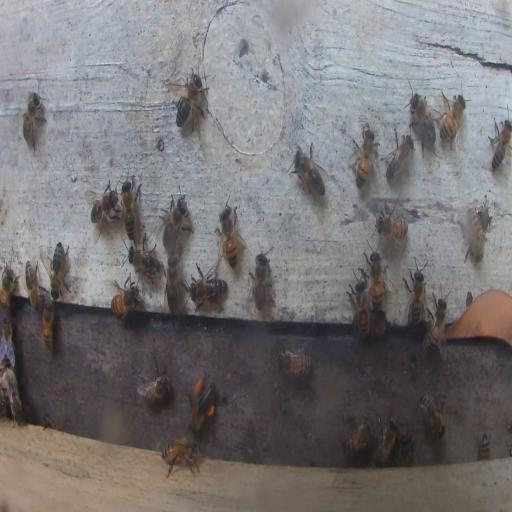nonpollenbee: (172, 72, 210, 132), (407, 86, 437, 156), (87, 176, 120, 238), (290, 144, 326, 197), (349, 126, 377, 189), (402, 255, 426, 328), (134, 360, 172, 406), (160, 190, 190, 248), (162, 435, 202, 478), (438, 88, 466, 149), (188, 265, 228, 307), (21, 88, 47, 152), (382, 131, 414, 180), (220, 202, 242, 267), (423, 298, 448, 354), (488, 114, 512, 172), (348, 278, 370, 341), (418, 391, 446, 440), (467, 200, 489, 262), (48, 239, 70, 299), (128, 242, 162, 280), (248, 252, 271, 308), (2, 367, 24, 425), (375, 202, 408, 240), (340, 420, 372, 456), (110, 281, 140, 319), (374, 421, 398, 467), (120, 177, 138, 237), (277, 347, 312, 377), (166, 254, 182, 314), (1, 258, 18, 314), (370, 251, 383, 311), (25, 260, 40, 312), (42, 297, 54, 354), (1, 318, 15, 362), (396, 435, 414, 466), (478, 432, 492, 461), (44, 412, 55, 428)
pollenbee: (186, 378, 215, 436)
